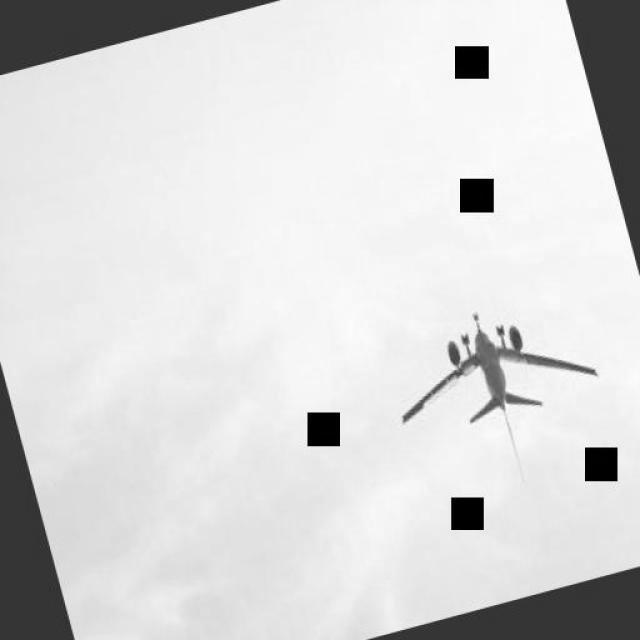aeroplane: (401, 313, 600, 428)
